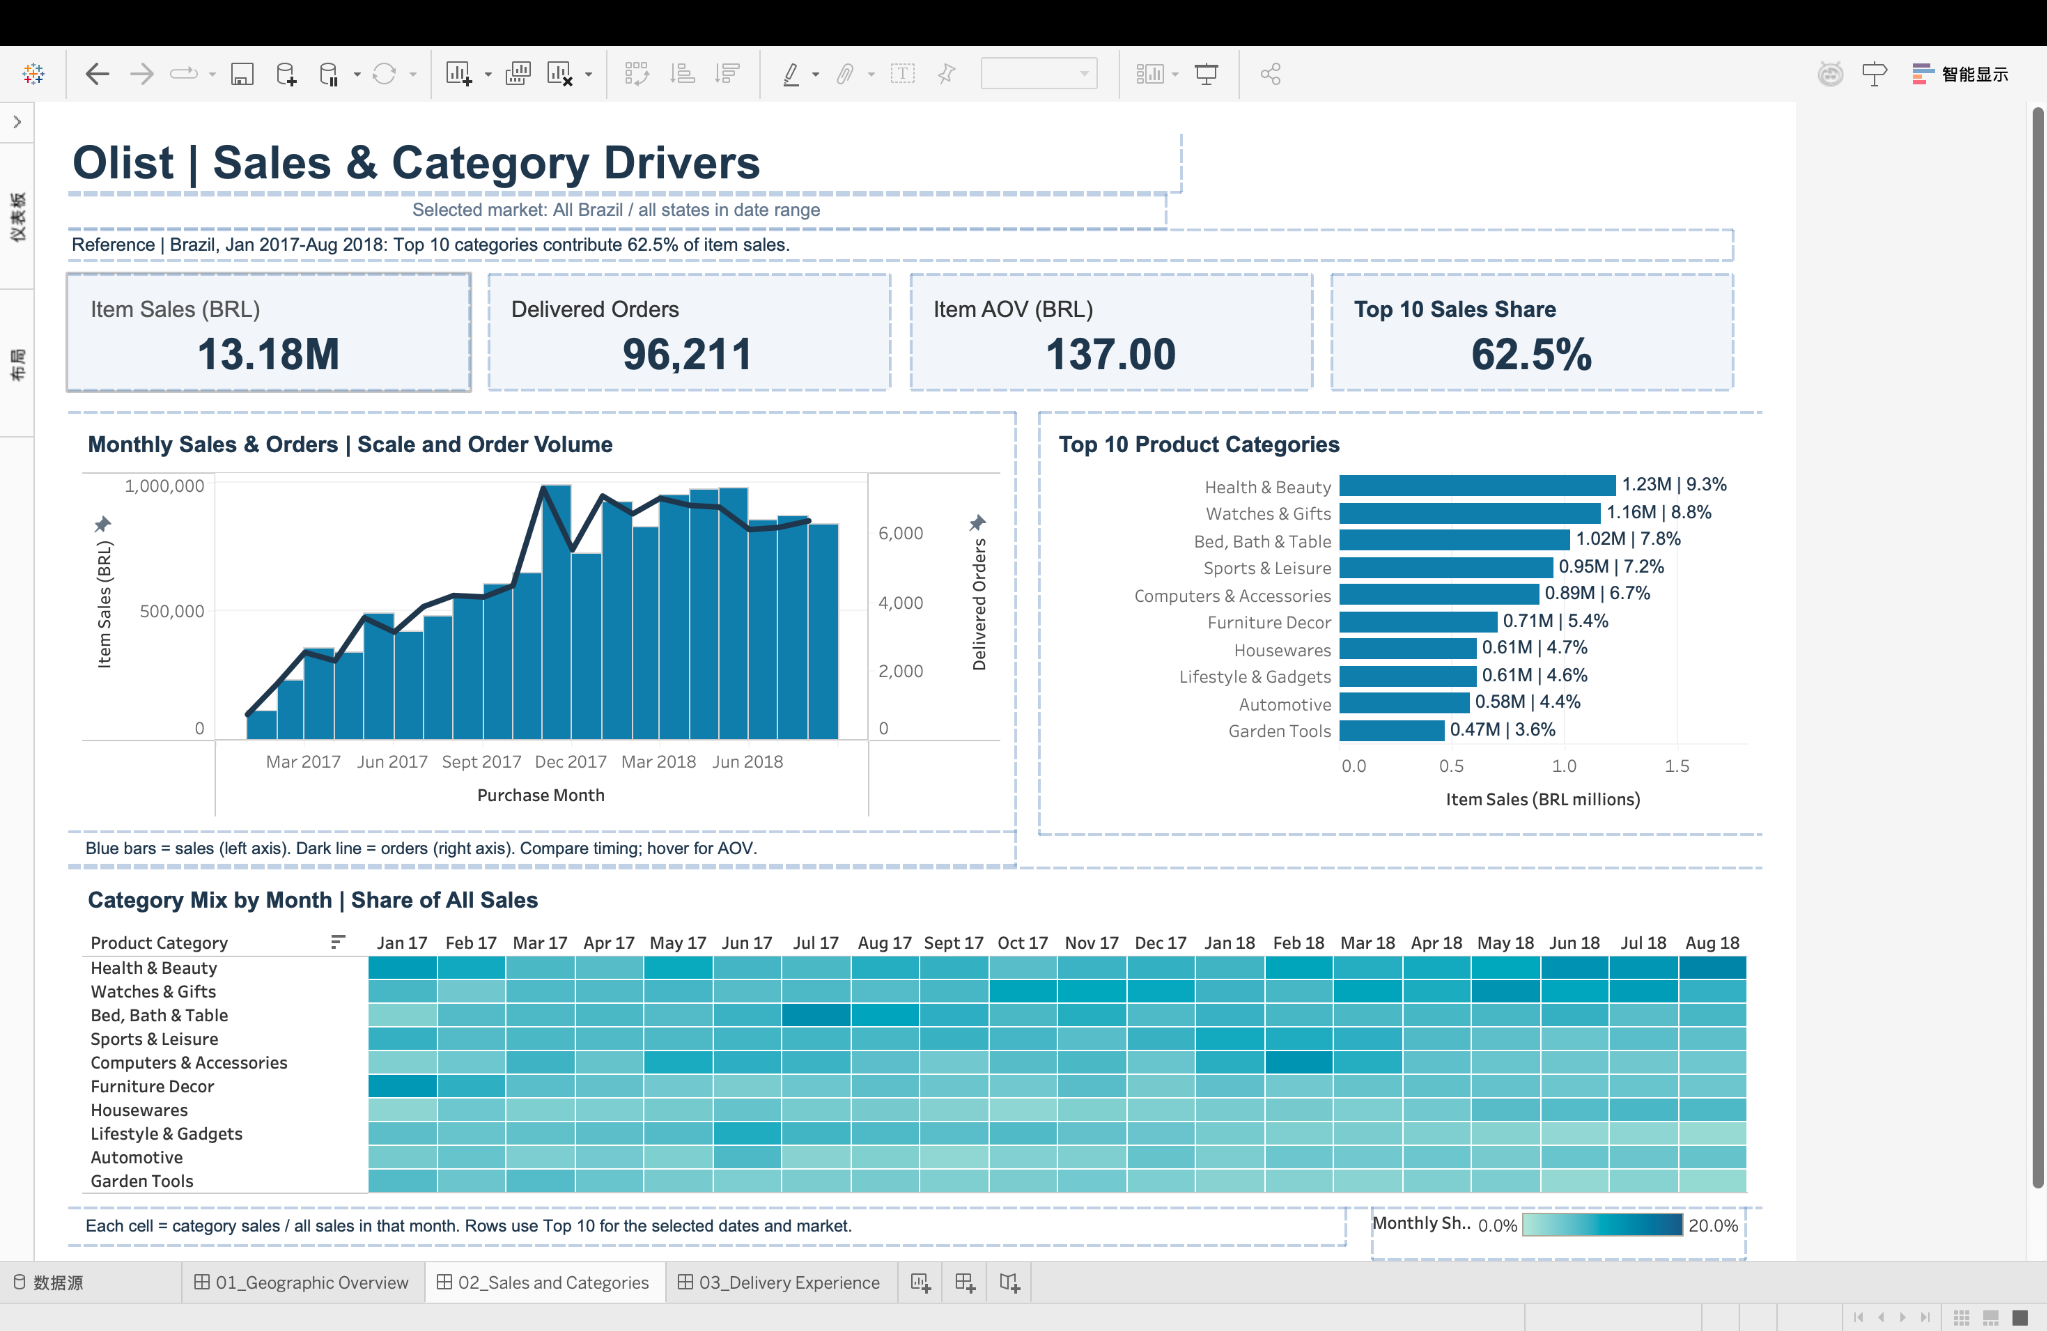

The dashboard page shown, as its layout file describes it:
{"tool":"tableau","page":{"name":"02_Sales and Categories","canvas":[1264,884],"ordinal":1},"visuals":[{"type":"text","box":[52,44,775,42]},{"type":"filter","title":"15_Brazil Map","param":"[federated.04gtu7q18lci2v12c0srs0knx6un].[none:purchase_date:qk]","box":[872,44,340,64]},{"type":"worksheet","title":"21_Selected Market","mark":"Text","box":[52,88,765,23]},{"type":"text","box":[52,112,1160,22]},{"type":"worksheet","title":"02_KPI Sales","mark":"Text","box":[52,144,279.5,82]},{"type":"worksheet","title":"03_KPI_Orders","mark":"Text","box":[345.5,144,279.5,82]},{"type":"worksheet","title":"04_KPI_AOV","mark":"Text","box":[639,144,279.5,82]},{"type":"worksheet","title":"27_KPI Top10 Share","mark":"Text","box":[932.5,144,279.5,82]},{"type":"worksheet","title":"25_Sales and Orders","mark":"Automatic","rows":["Calculation_1764293392490498","Calculation_1764293392039937"],"cols":["purchase_date"],"box":[52,242,660,300]},{"type":"worksheet","title":"06_Category Sales","mark":"Bar","rows":["product_category"],"cols":["Final_Category_Sales_M"],"box":[728,242,504,300]},{"type":"text","box":[52,540,660,24]},{"type":"worksheet","title":"26_Category Monthly Mix","mark":"Square","rows":["product_category"],"cols":["purchase_date"],"box":[52,566,1180,242]},{"type":"text","box":[52,808,890,26]},{"type":"legend","title":"26_Category Monthly Mix","param":"[federated.04gtu7q18lci2v12c0srs0knx6un].[usr:V3_Month_Share:qk]","box":[960,808,260,36]},{"type":"worksheet","title":"22_Metric Definitions","mark":"Text","box":[52,850,165,22]},{"type":"text","box":[232,850,980,22]}]}

Visuals, with their boxes on the page's 1264x884 design canvas (x1, y1, x2, y2). These are canvas units, not pixel positions in the 2047x1331 screenshot, which may show the page scaled, cropped or inside an application window:
text: rect(52, 44, 827, 86)
"15_Brazil Map" filter: rect(872, 44, 1212, 108)
"21_Selected Market" worksheet (Text marks): rect(52, 88, 817, 111)
text: rect(52, 112, 1212, 134)
"02_KPI Sales" worksheet (Text marks): rect(52, 144, 332, 226)
"03_KPI_Orders" worksheet (Text marks): rect(346, 144, 625, 226)
"04_KPI_AOV" worksheet (Text marks): rect(639, 144, 918, 226)
"27_KPI Top10 Share" worksheet (Text marks): rect(932, 144, 1212, 226)
"25_Sales and Orders" worksheet: rect(52, 242, 712, 542)
"06_Category Sales" worksheet (Bar marks): rect(728, 242, 1232, 542)
text: rect(52, 540, 712, 564)
"26_Category Monthly Mix" worksheet (Square marks): rect(52, 566, 1232, 808)
text: rect(52, 808, 942, 834)
"26_Category Monthly Mix" legend: rect(960, 808, 1220, 844)
"22_Metric Definitions" worksheet (Text marks): rect(52, 850, 217, 872)
text: rect(232, 850, 1212, 872)
